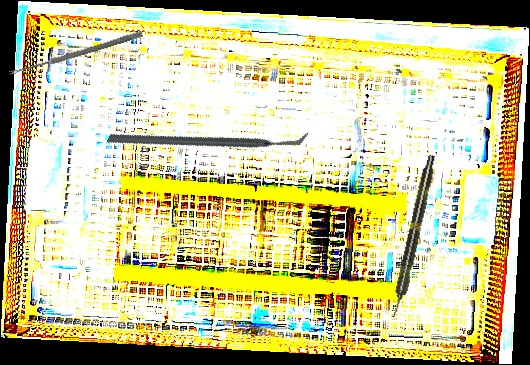Chopper: (105, 55, 310, 220)
Handpiece: (387, 153, 439, 320)
Surgical Spoon: (8, 29, 144, 78)
